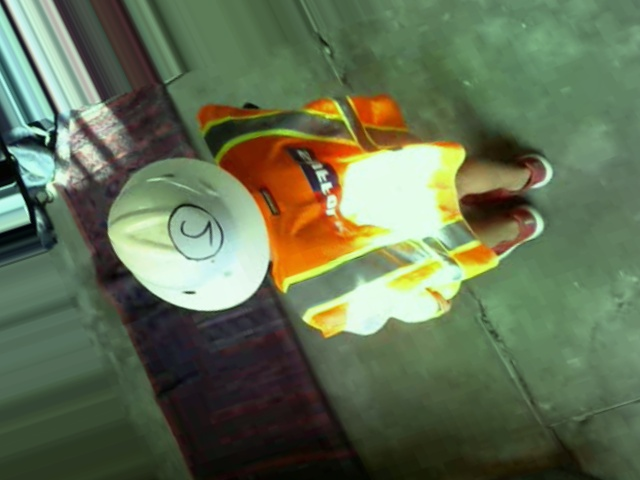two: (157, 196, 230, 266)
